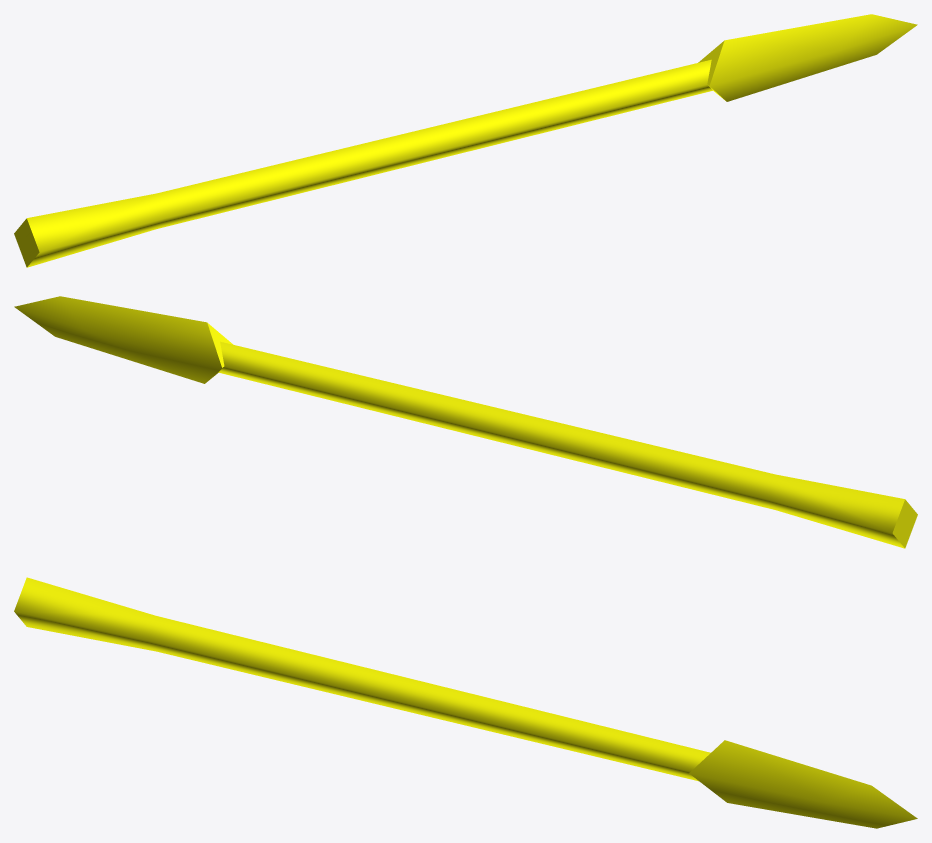
Rendered from ELF_weapon_spear.FBX.glb.
3 views of the same model, one above another, from view 1: azimuth 30°, elevation 25°; view 2: azimuth 150°, elevation 25°; view 3: azimuth 330°, elevation 25° (orthographic).
Visible parts, largest first — view 1: ELF_weapon_spear; view 2: ELF_weapon_spear; view 3: ELF_weapon_spear.
Part boxes in pixels (x1=…): ELF_weapon_spear: x1=14, y1=14, x2=917, y2=267; ELF_weapon_spear: x1=14, y1=296, x2=917, y2=548; ELF_weapon_spear: x1=14, y1=577, x2=917, y2=828.
Bounding box in the file's own units: 73837 × 4930 × 3669.
